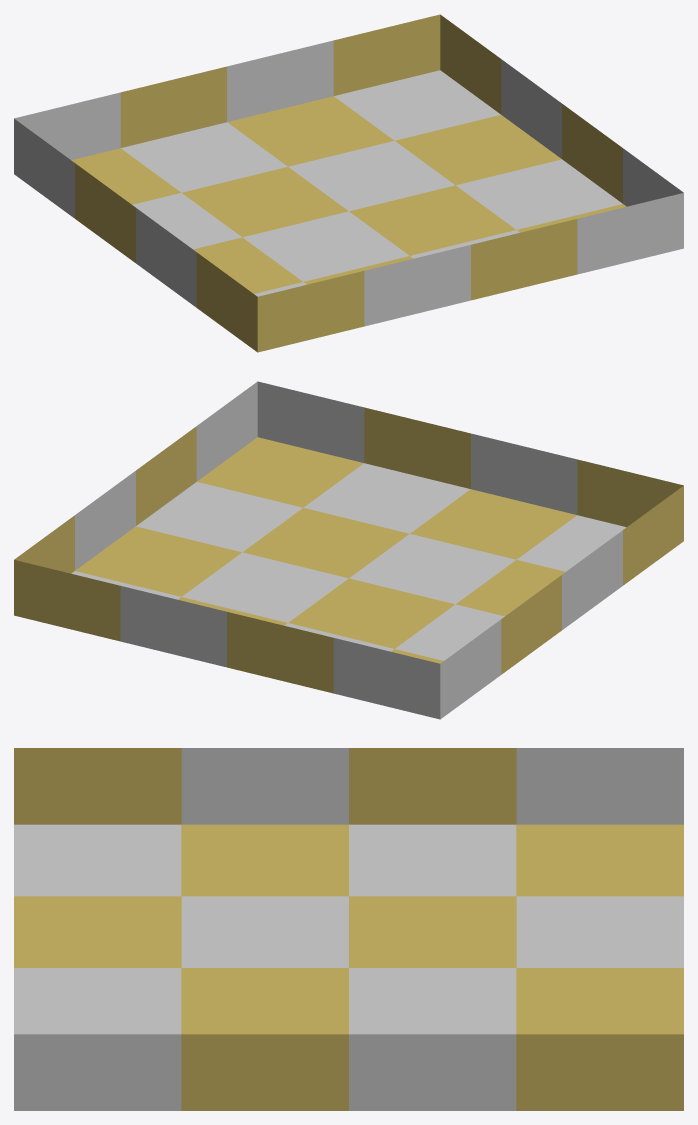
Rendered from checkers.obj.
3 views of the same model, one above another, from view 1: azimuth 30°, elevation 25°; view 2: azimuth 150°, elevation 25°; view 3: azimuth 270°, elevation 25° (orthographic). The views are drawn at different scales.
Parts seen in each view (by area): view 1: Cube_Material, Cube_Emission; view 2: Cube_Emission, Cube_Material; view 3: Cube_Material, Cube_Emission.
Boxes of the visible parts, <box> form: Cube_Material: <box>71,14,626,352</box>; Cube_Emission: <box>14,40,683,326</box>; Cube_Emission: <box>71,381,626,719</box>; Cube_Material: <box>14,407,683,693</box>; Cube_Material: <box>14,748,683,1110</box>; Cube_Emission: <box>14,748,683,1110</box>.
Bounding box in the file's own units: 8 × 1 × 7.92.
